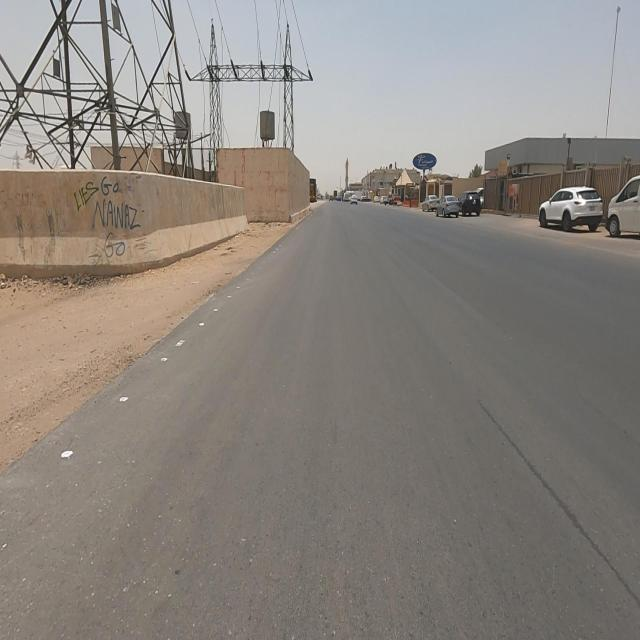Graffiti: (73, 177, 141, 260)
